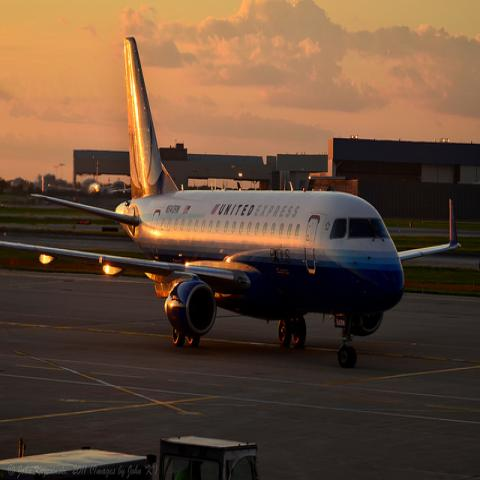truck: (158, 431, 260, 479)
